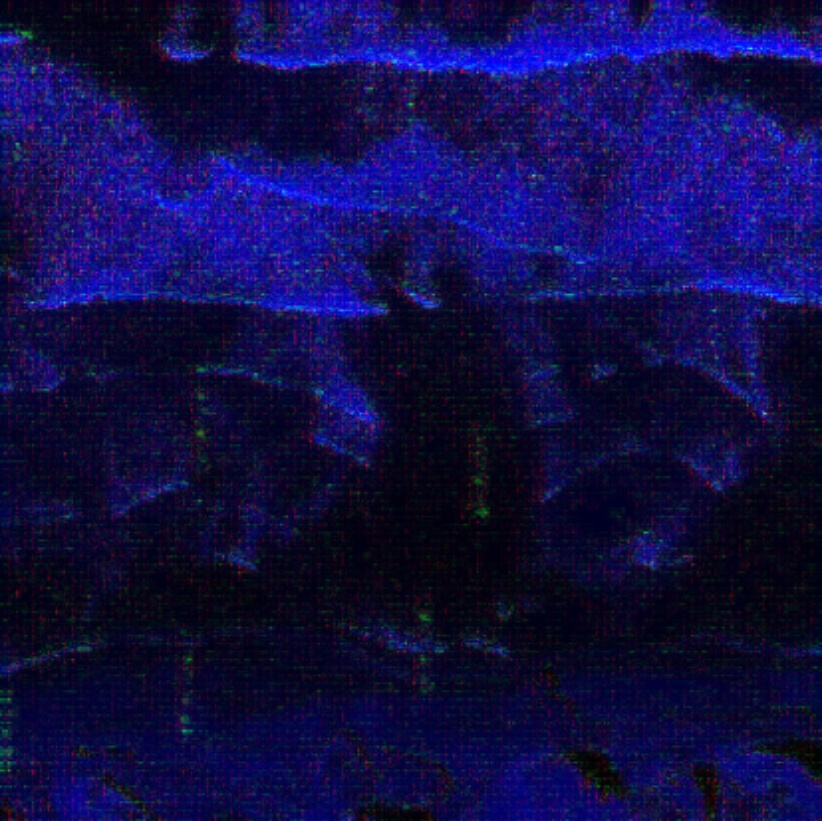rip_current: (293, 192, 587, 678)
